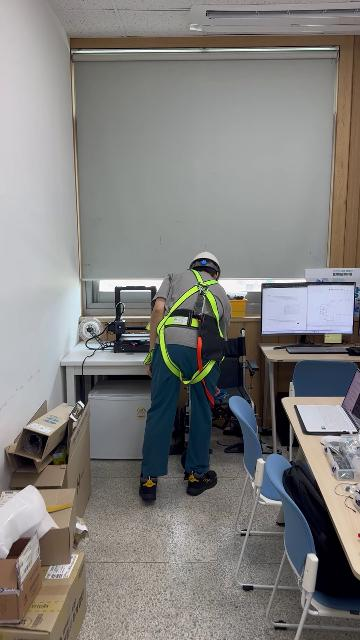helmet_worn: (189, 248, 221, 281)
shoe_worn: (185, 469, 216, 496), (139, 472, 158, 501)
vest_worn: (162, 275, 222, 369)
